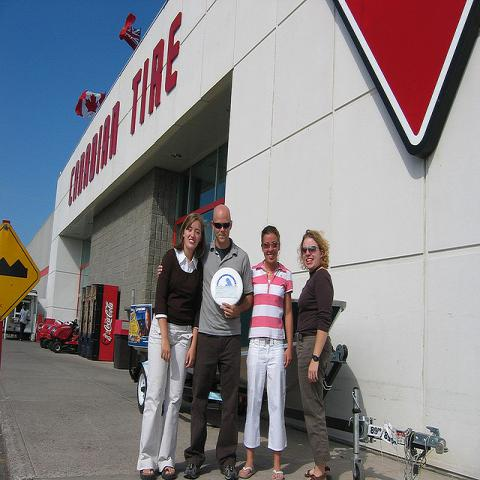motorcycle: (48, 318, 80, 354)
